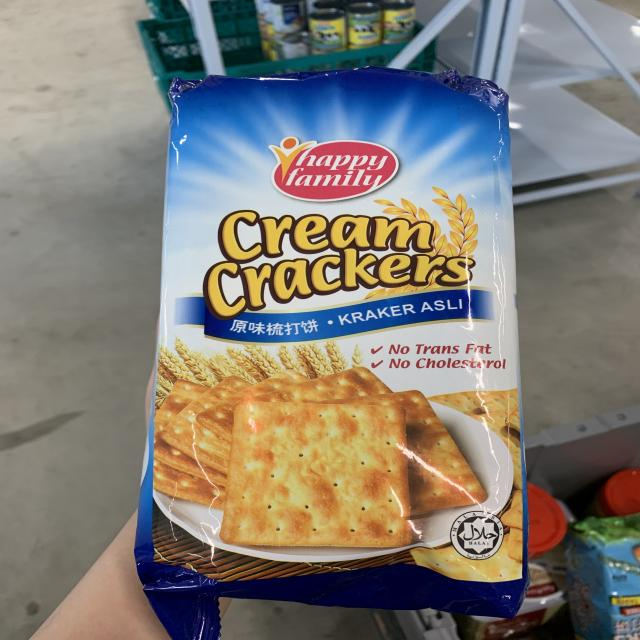object_name: (164, 81, 521, 603)
